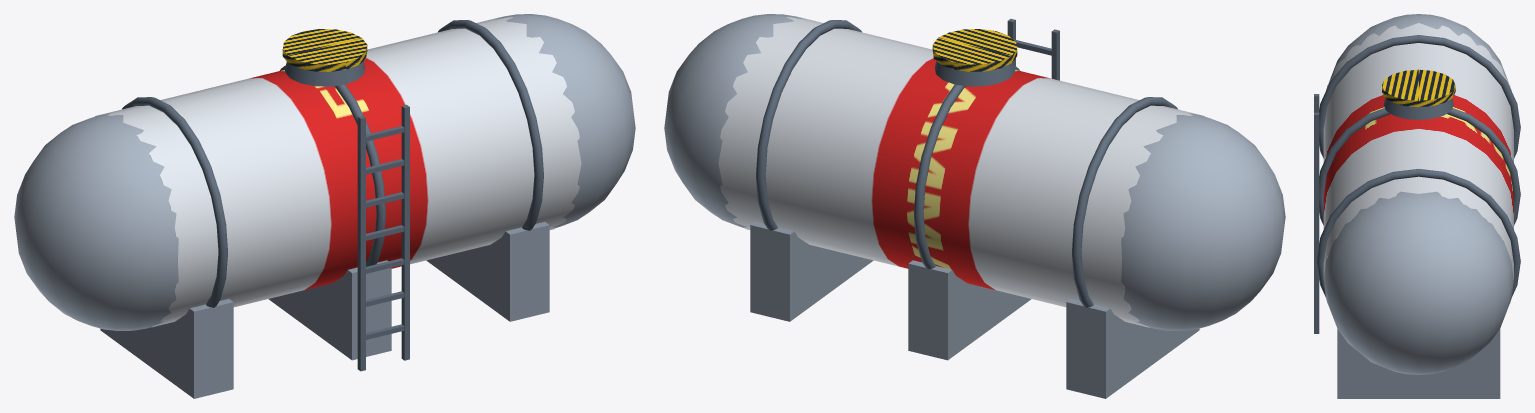
Rendered from fuel_tank_cistern.glb.
3 renders of one model, left to right at view 1: azimuth 30°, elevation 25°; view 2: azimuth 150°, elevation 25°; view 3: azimuth 270°, elevation 25°, orthographic. The views are drawn at different scales.
Parts seen in each view (by area): view 1: fuel_tank_cistern, cistern_hatch_pivot; view 2: fuel_tank_cistern, cistern_hatch_pivot; view 3: fuel_tank_cistern, cistern_hatch_pivot.
Part boxes in pixels (left/top/right/bottom): fuel_tank_cistern: left=14, top=14, right=635, bottom=398; cistern_hatch_pivot: left=282, top=29, right=367, bottom=86; fuel_tank_cistern: left=664, top=14, right=1285, bottom=398; cistern_hatch_pivot: left=932, top=29, right=1017, bottom=86; fuel_tank_cistern: left=1314, top=14, right=1520, bottom=398; cistern_hatch_pivot: left=1382, top=69, right=1455, bottom=119.
Size of the model in its own units: 6.76 by 2.99 by 2.35.
Materials: 5 (2 with a texture image).
